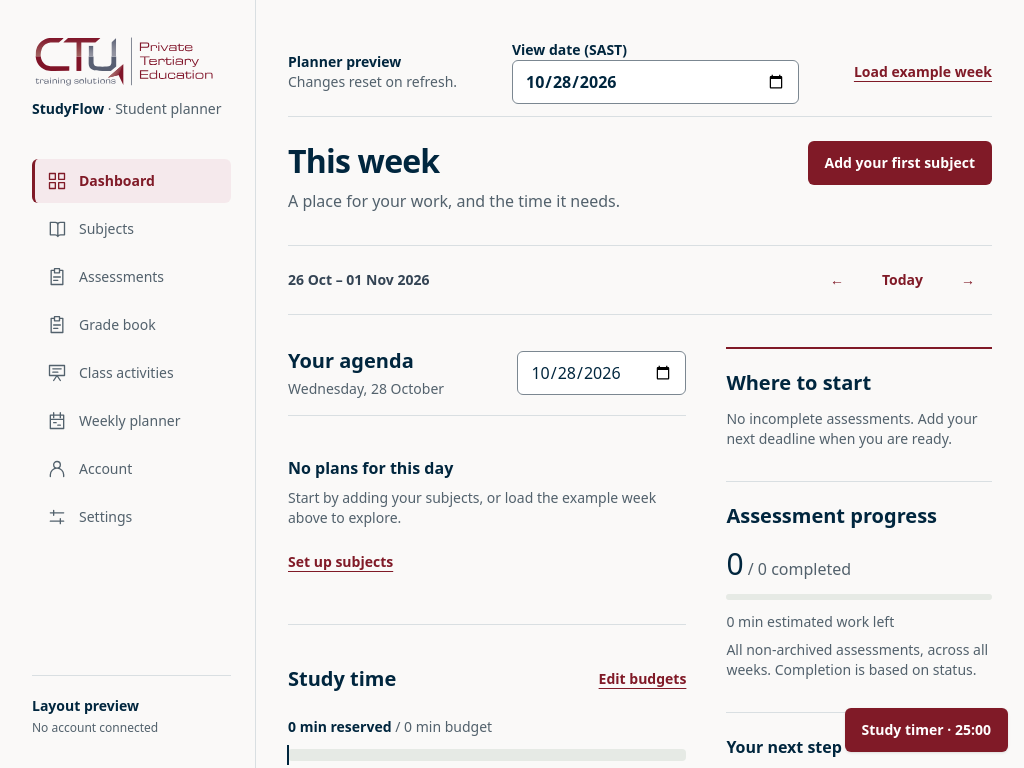
Test: shared starter navigation › keeps the preview across account navigation
The image size is (1024, 768).
Click the button "Load example week" at (923, 72), box [854,50,992,94]
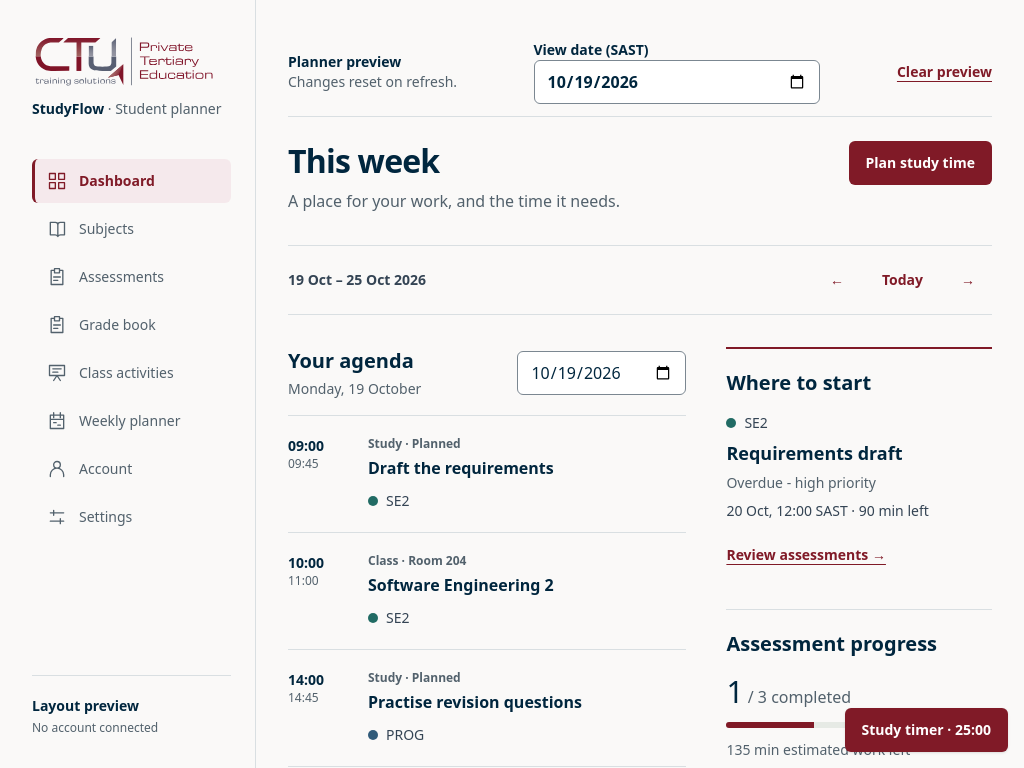
Click the link "Account" at (90, 469), box [47,459,132,479]
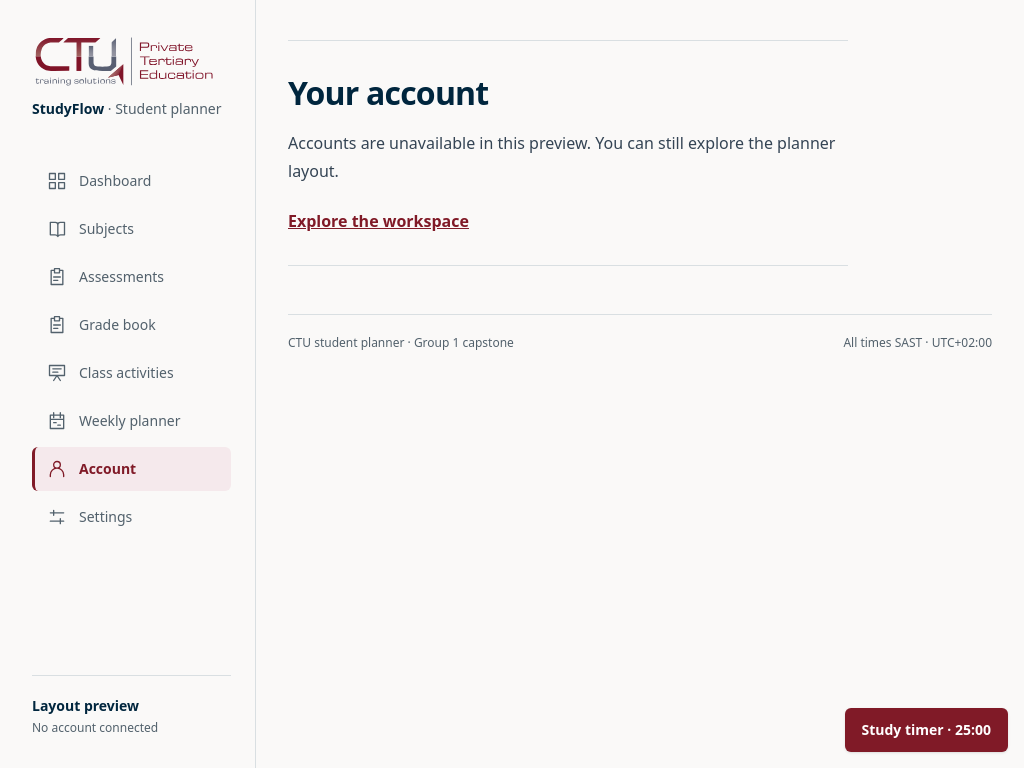
Click the link "Dashboard" at (99, 181), box [47,171,152,191]
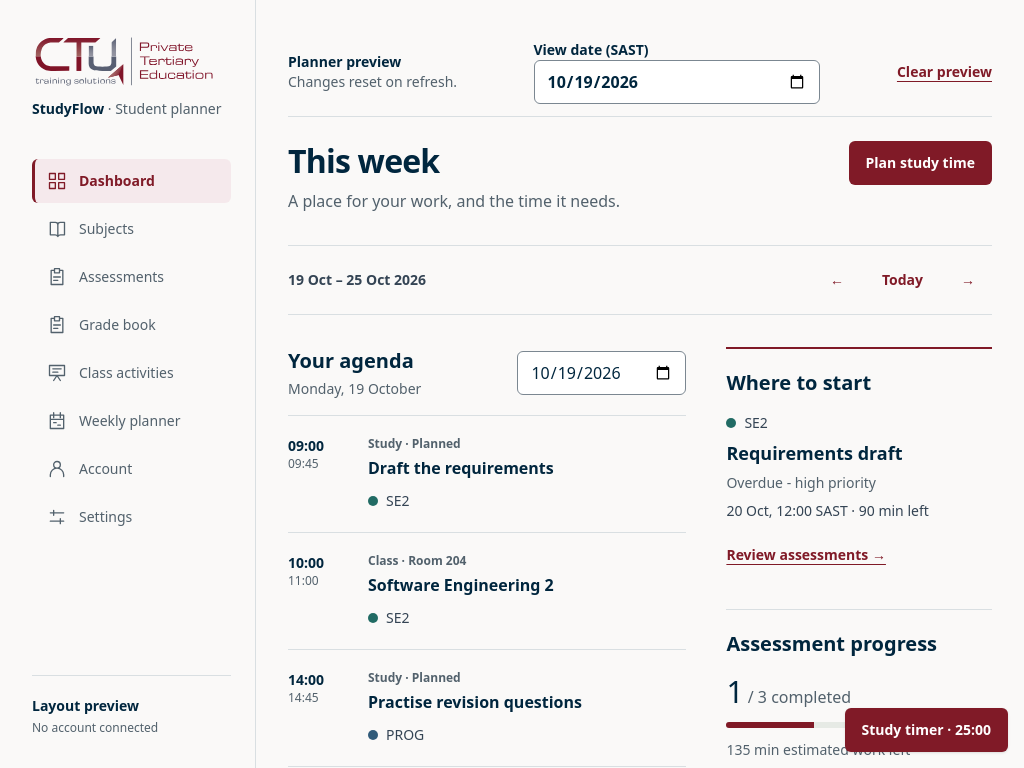
Expected: the heading "Requirements draft" is shown, [726,441,902,465]
